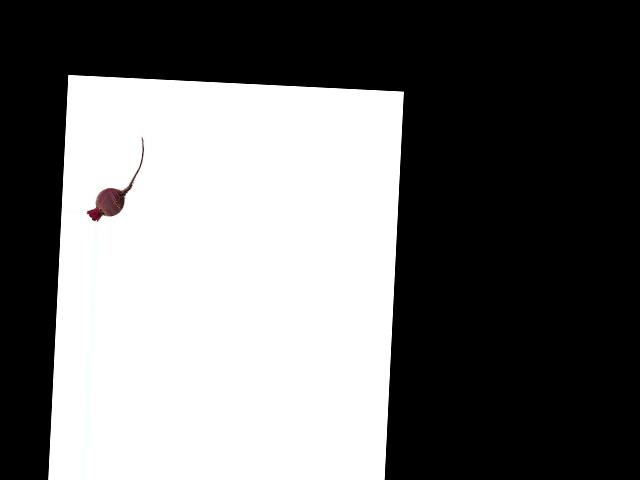beet: (86, 133, 144, 223)
